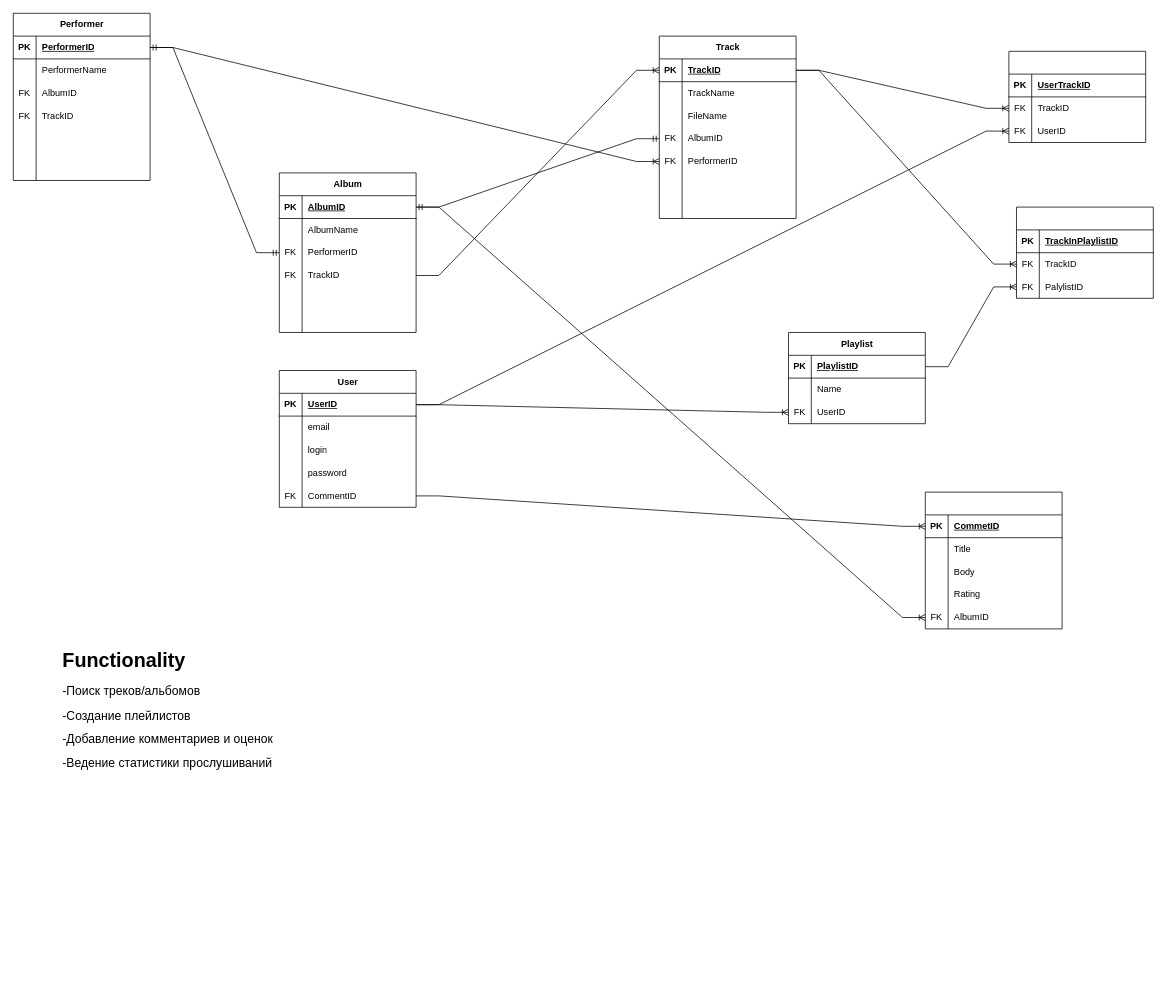
The diagram is 1167 pixels wide and 1007 high, and some of its shapes have lost their labels. The shapes that lost their labels are listed below. From the top down, each one's box as (x1, y1, x2, y2) in pixels, then its label:
(1008, 51, 1146, 142): UserTracks
(1016, 206, 1153, 298): TracksInPlaylist
(925, 491, 1062, 629): Comment
